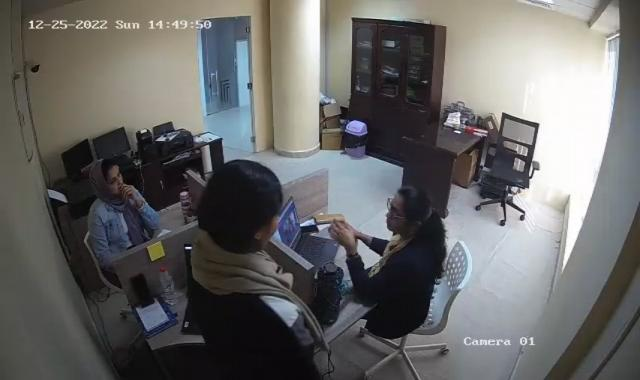no_hairnet: (204, 160, 279, 257), (385, 186, 431, 235), (90, 160, 128, 199)
